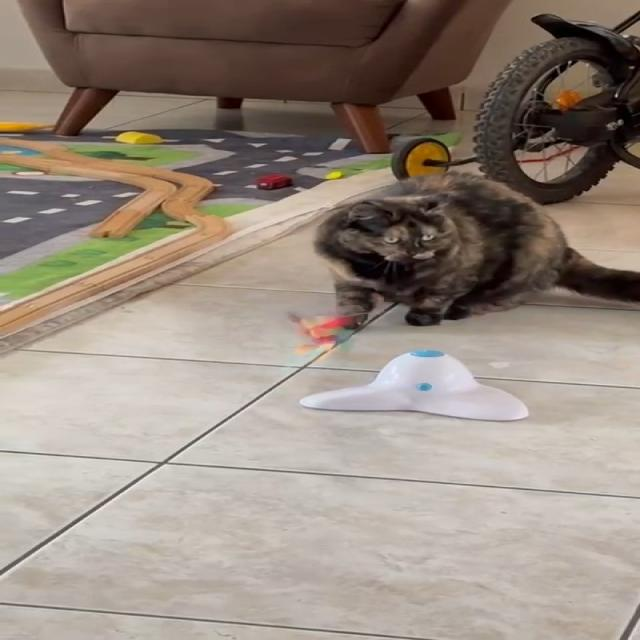authorized: (312, 170, 639, 327)
